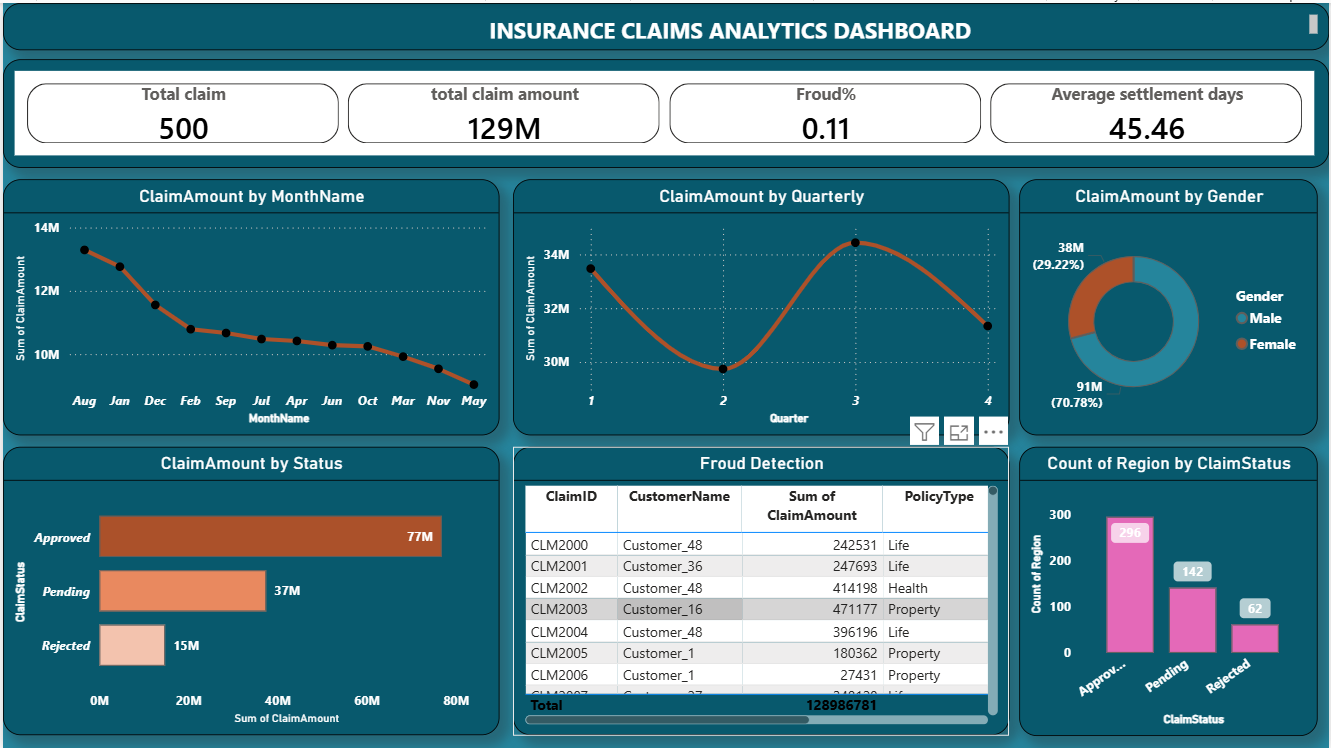

Layout of this report page (visuals, bound fields, positions):
{"tool":"powerbi","page":{"name":"Page 1","canvas":[1280,720],"ordinal":0},"visuals":[{"type":"textbox","box":[0,0,1280.3,45.3],"z":0},{"type":"cardVisual","fields":{"Data":["Dax Table.Total claim","Dax Table.total claim amount","Dax Table.Froud%","Dax Table.Average settlement days"]},"box":[0,54.3,1280,105],"z":1000},{"type":"lineChart","title":"ClaimAmount by MonthName","fields":{"Category":["Dim_Date.MonthName"],"Y":["Sum(Fact_Claims.ClaimAmount)"]},"box":[0,170.1,479,247.3],"z":2000},{"type":"lineChart","title":"ClaimAmount by Quarterly","fields":{"Category":["Dim_Date.Quarter"],"Y":["Sum(Fact_Claims.ClaimAmount)"]},"box":[492.2,170.1,479,247.3],"z":3000},{"type":"donutChart","title":"ClaimAmount by Gender","fields":{"Y":["Sum(Fact_Claims.ClaimAmount)"],"Category":["Dim_Customer.Gender"]},"box":[980.8,170.1,288.3,247.3],"z":4000},{"type":"barChart","title":"ClaimAmount by Status","fields":{"Category":["Fact_Claims.ClaimStatus"],"Y":["Sum(Fact_Claims.ClaimAmount)"]},"box":[0,428.3,479,278.7],"z":5000},{"type":"tableEx","title":" Froud Detection","fields":{"Values":["Fact_Claims.ClaimID","Dim_Customer.CustomerName","Sum(Fact_Claims.ClaimAmount)","Dim_Policy.PolicyType","Fact_Claims.IsFraudSuspected","Sum(Fact_Claims.SettlementDays)"]},"box":[492.2,428.3,479,278.7],"z":6000},{"type":"lineStackedColumnComboChart","fields":{"Category":["Fact_Claims.ClaimStatus"],"Y":["CountNonNull(Fact_Claims.Region)"]},"box":[981,428,288,279],"z":7000}]}

Visuals, with their boxes in screenshot pixels (x1, y1, x2, y2), scaled from the page's 1280x720 canvas onto the 1331x748 screenshot:
textbox: locate(0, 0, 1330, 47)
cardVisual - Dax Table.Total claim x Dax Table.total claim amount: locate(0, 56, 1330, 165)
"ClaimAmount by MonthName" lineChart: locate(0, 177, 498, 434)
"ClaimAmount by Quarterly" lineChart: locate(512, 177, 1010, 434)
"ClaimAmount by Gender" donutChart: locate(1020, 177, 1320, 434)
"ClaimAmount by Status" barChart: locate(0, 445, 498, 734)
" Froud Detection" tableEx: locate(512, 445, 1010, 734)
lineStackedColumnComboChart - Fact_Claims.ClaimStatus x CountNonNull(Fact_Claims.Region): locate(1020, 445, 1320, 734)
